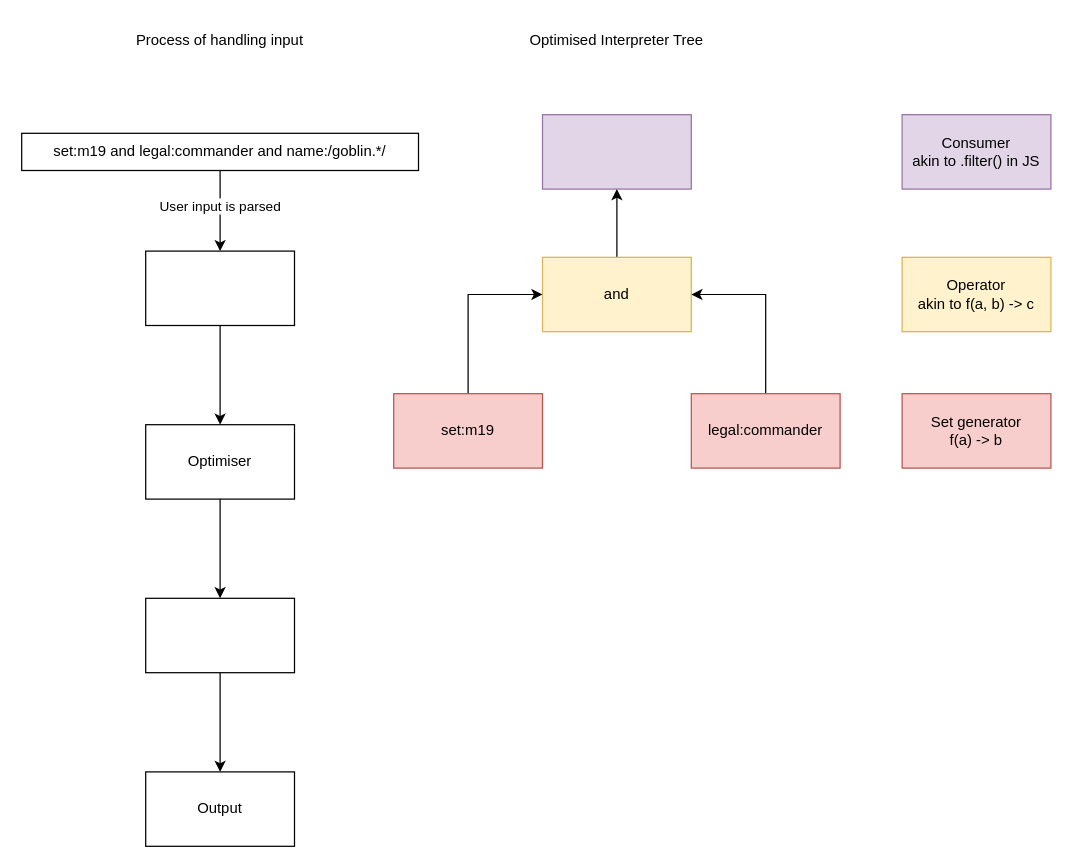
Image size: 1073x868. Some labels were removed from this diagram. Each missing label, with the centre of its shape:
Interpreter: (219,635)
name:/goblin .*/: (616,151)
Parser: (219,288)
